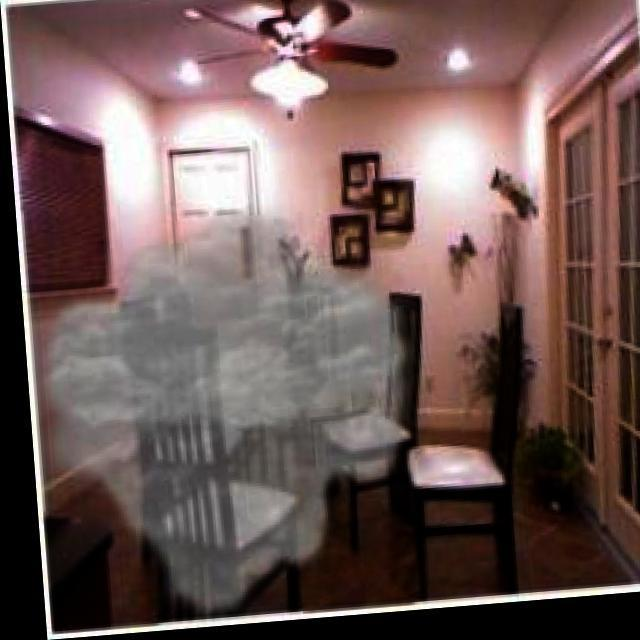Smoke: (27, 203, 430, 629)
